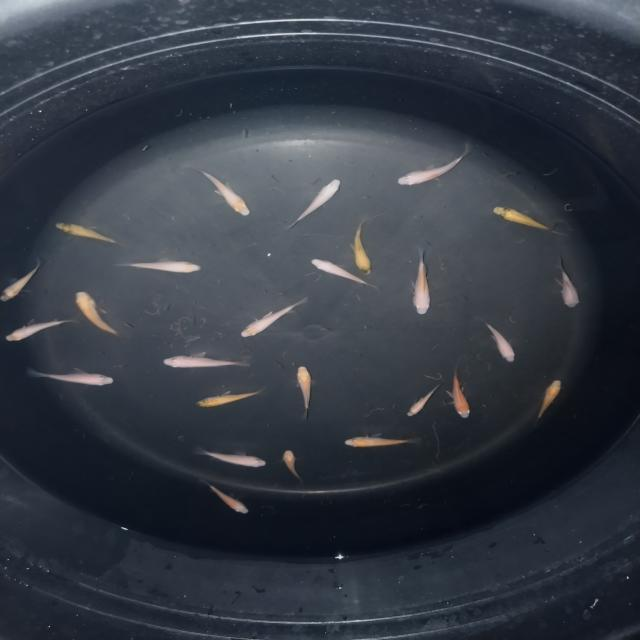nila: (394, 146, 469, 190), (286, 176, 346, 230), (192, 168, 256, 216), (72, 288, 131, 338), (238, 300, 308, 342), (306, 255, 380, 294), (487, 202, 565, 239), (21, 366, 122, 390), (404, 246, 436, 318), (0, 314, 74, 344), (115, 254, 206, 277), (52, 219, 123, 247), (478, 320, 520, 366), (2, 260, 44, 304), (448, 360, 477, 422), (192, 386, 270, 409), (202, 481, 250, 518), (552, 256, 584, 311), (534, 374, 566, 426), (339, 432, 426, 450), (198, 447, 268, 469), (158, 354, 254, 369), (292, 362, 316, 421), (351, 214, 372, 279), (408, 381, 443, 418), (280, 450, 310, 484)
